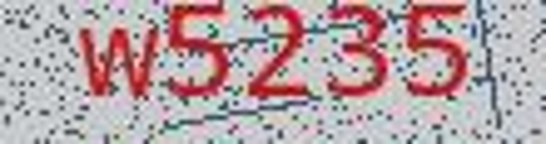2: (241, 1, 315, 108)
3: (323, 3, 394, 106)
5: (165, 2, 236, 103), (400, 2, 471, 102)
w: (73, 20, 163, 105)
